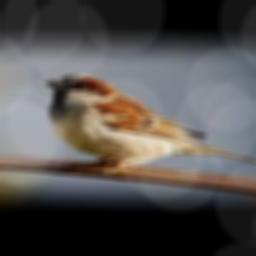Sparrow: (45, 74, 256, 173)
